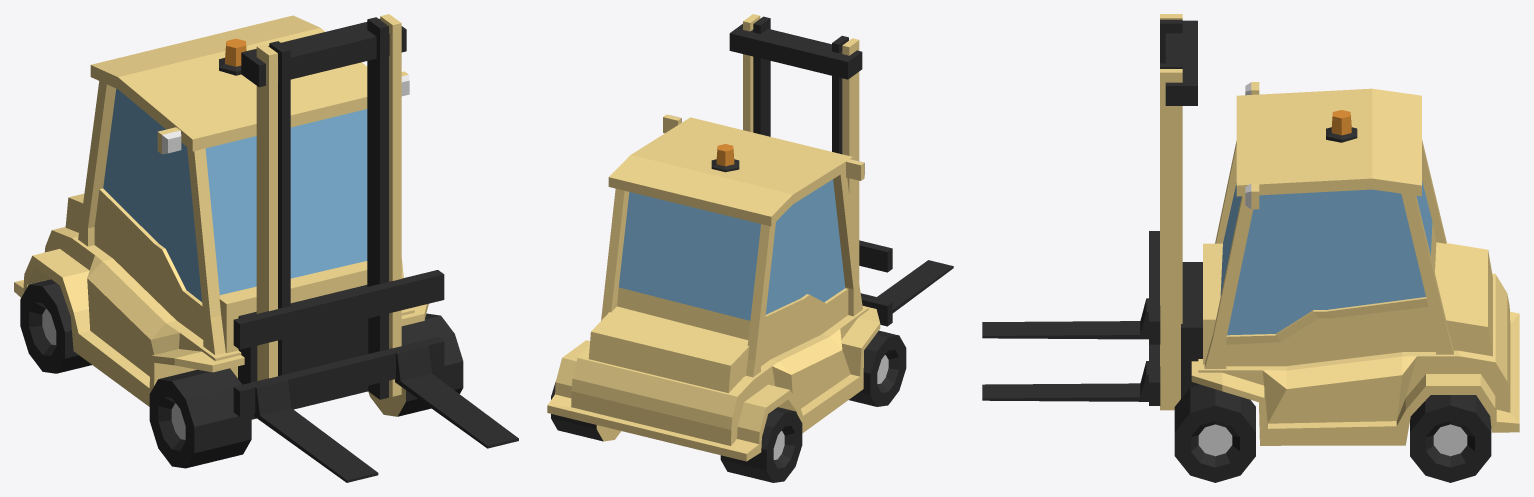
The model's file is MANIPULATOR VER2.fbx.
The picture shows the model from 3 angles, left to right: view 1: azimuth 30°, elevation 25°; view 2: azimuth 150°, elevation 25°; view 3: azimuth 270°, elevation 25°; orthographic projection. The views are drawn at different scales.
Parts seen in each view (by area): view 1: Cube, Cube.004, Cube.002, Cube.008, Cube.001, Cube.010, Cube.009, Cube.012, Cube.013; view 2: Cube, Cube.004, Cube.008, Cube.010, Cube.002, Cube.001, Cube.014; view 3: Cube, Cube.004, Cube.002, Cube.009, Cube.008, Cube.014, Cube.013, Cube.015.
Part boxes in pixels (<box>): Cube: <box>14,14,428,406</box>; Cube.004: <box>103,88,367,301</box>; Cube.002: <box>233,270,518,482</box>; Cube.008: <box>238,17,406,419</box>; Cube.001: <box>149,368,251,468</box>; Cube.010: <box>20,279,91,373</box>; Cube.009: <box>398,313,463,416</box>; Cube.012: <box>162,74,409,154</box>; Cube.013: <box>368,387,405,416</box>; Cube: <box>547,14,880,461</box>; Cube.004: <box>618,179,845,320</box>; Cube.008: <box>729,16,862,154</box>; Cube.010: <box>720,407,802,482</box>; Cube.002: <box>859,240,953,326</box>; Cube.001: <box>849,330,906,406</box>; Cube.014: <box>551,382,603,441</box>; Cube: <box>1160,14,1519,445</box>; Cube.004: <box>1220,181,1432,335</box>; Cube.002: <box>982,231,1160,405</box>; Cube.009: <box>1174,384,1255,482</box>; Cube.008: <box>1160,19,1202,398</box>; Cube.014: <box>1410,395,1491,482</box>; Cube.013: <box>1198,424,1232,456</box>; Cube.015: <box>1433,424,1467,456</box>.
Bounding box in the file's own units: 236 × 350 × 449.
